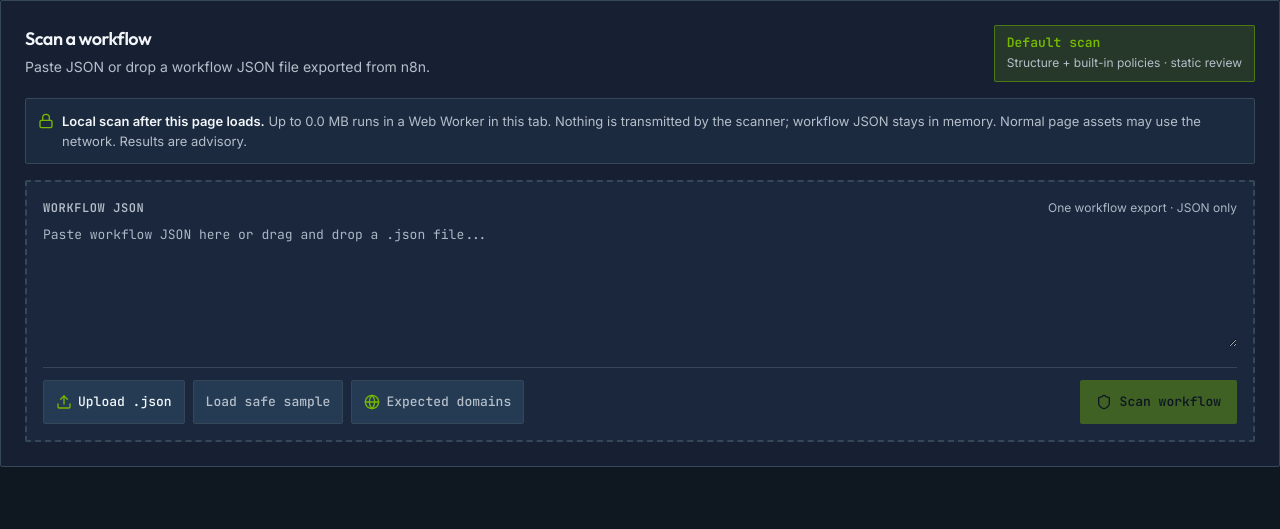
Test case: ScannerInput text submission boundaries › rejects oversized typed text before onScan
The image size is (1280, 529).
Type "x" into the text box labelled "Workflow JSON". click: (640, 286)
box: [43,226,1237,347]
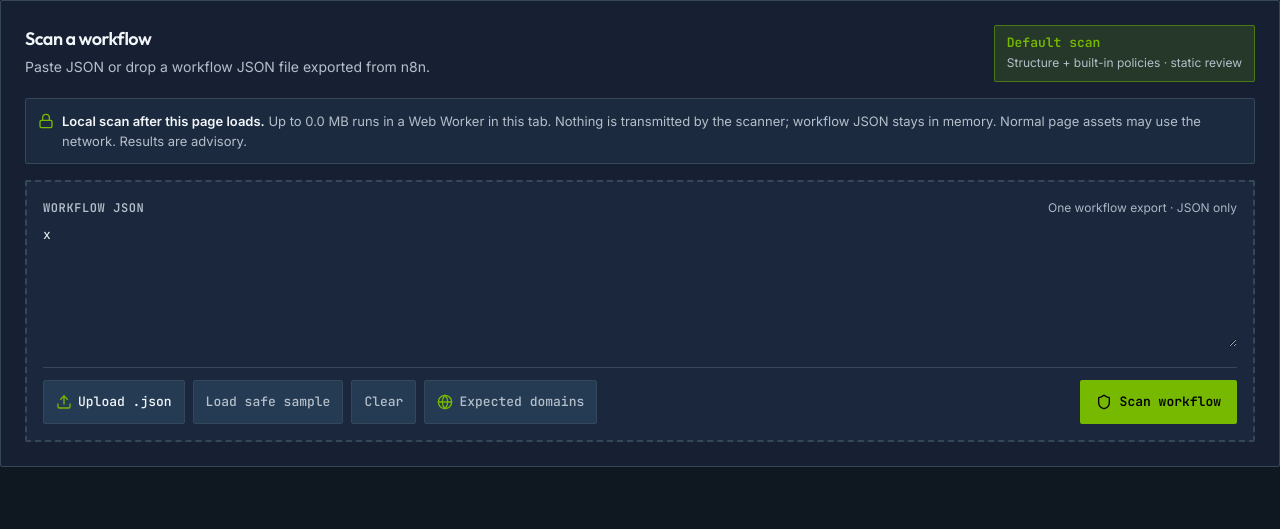
Click the button "Scan workflow". click: (1158, 402)
box: [1080,380,1237,424]
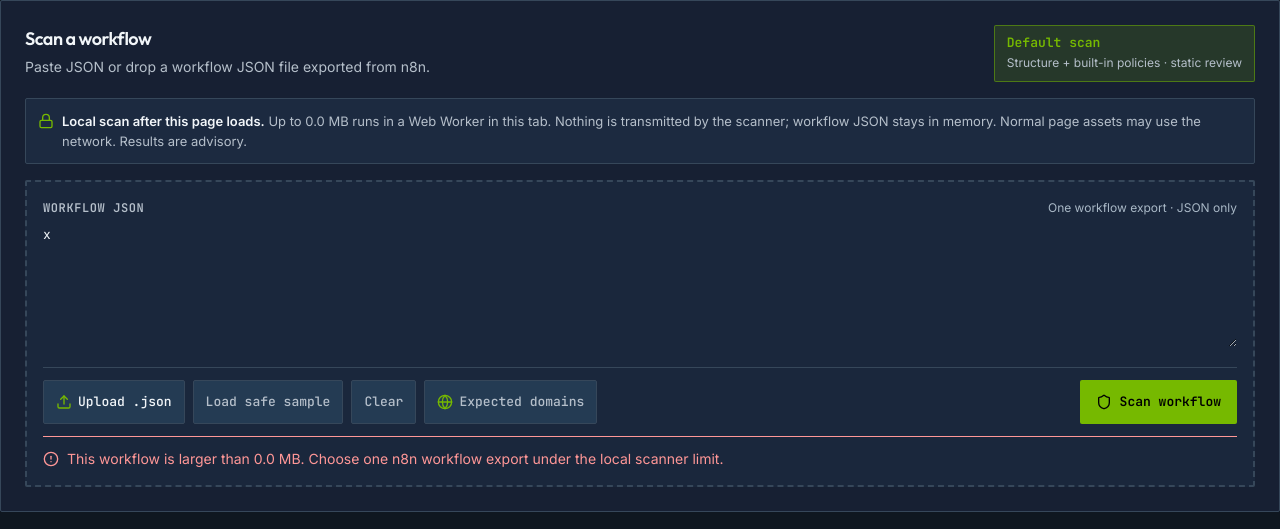
Expected: the message shows "larger than", [67,450,724,467]
